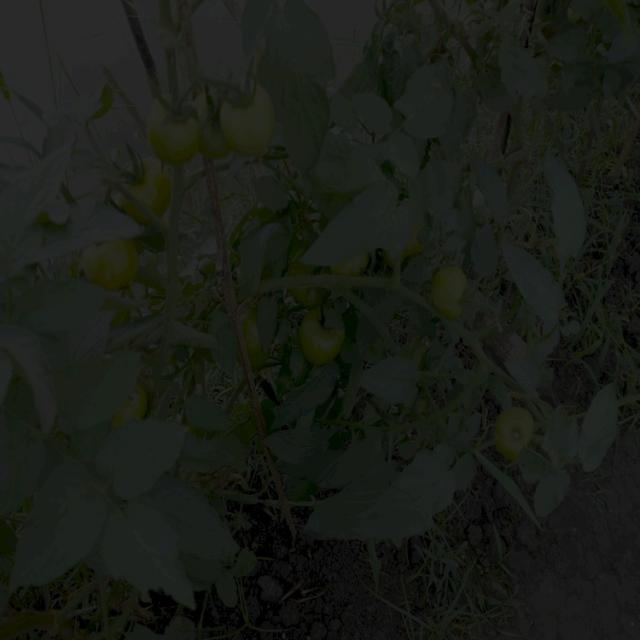tomato: (224, 84, 282, 152), (150, 91, 202, 166), (128, 161, 184, 221), (91, 239, 152, 293), (305, 297, 350, 366), (195, 85, 234, 159), (495, 405, 543, 464), (433, 264, 472, 315), (239, 313, 270, 370), (121, 387, 155, 427), (322, 255, 375, 277), (287, 257, 333, 279)
